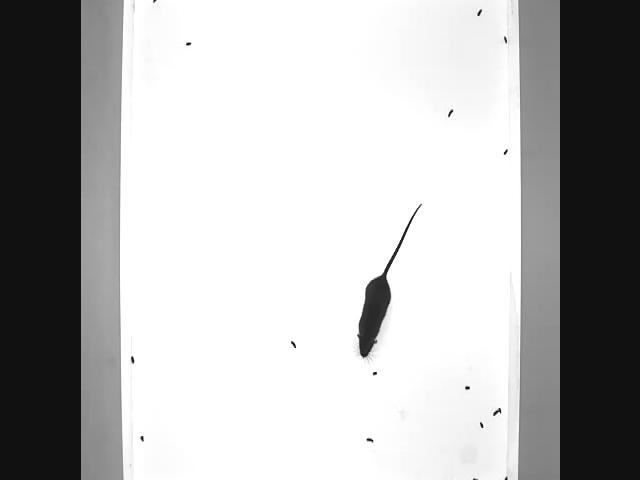Tikus: (352, 199, 429, 364)
